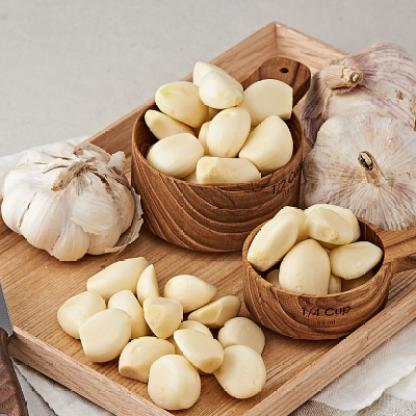garlic: (15, 138, 134, 251), (328, 114, 416, 227), (318, 51, 414, 120), (149, 74, 219, 134), (277, 231, 332, 301), (210, 342, 276, 400), (146, 351, 206, 412), (70, 302, 127, 362), (252, 211, 295, 278), (180, 289, 252, 329), (237, 74, 305, 116), (249, 109, 296, 169), (148, 132, 202, 182), (122, 332, 176, 381), (179, 324, 227, 376), (327, 238, 384, 276), (102, 287, 144, 337), (92, 254, 146, 292), (308, 206, 358, 247), (56, 286, 100, 332), (166, 270, 216, 309), (142, 292, 186, 335), (209, 103, 245, 155), (198, 74, 245, 112), (225, 318, 267, 360)
